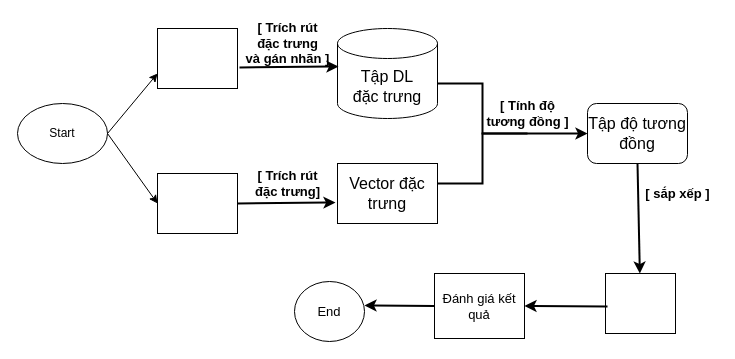
Image size: 735x359. Some labels were removed from this diagram. The box of each missing label's shape, as (x1, y1, x2, y2) in pixels:
Bộ dữ liệu ảnh: (156, 28, 238, 88)
Kết quả nhận dạng: (604, 272, 676, 334)
Ảnh nhận dạng: (156, 172, 238, 234)
